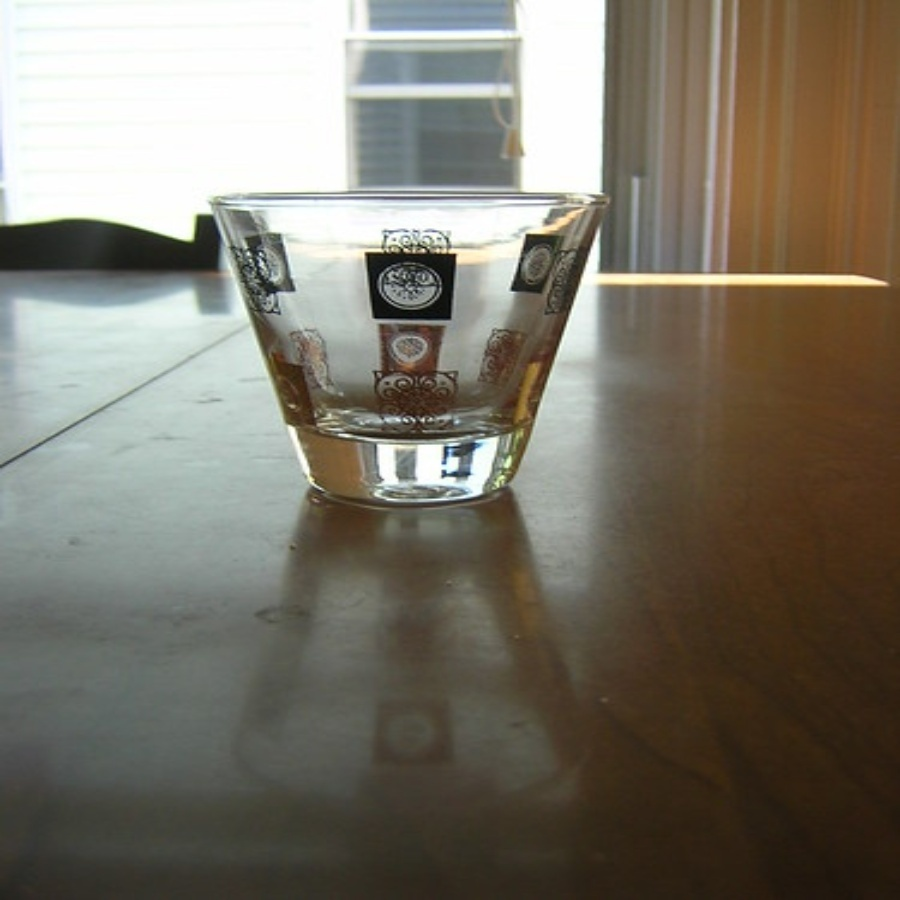whiskey: (239, 183, 619, 510)
